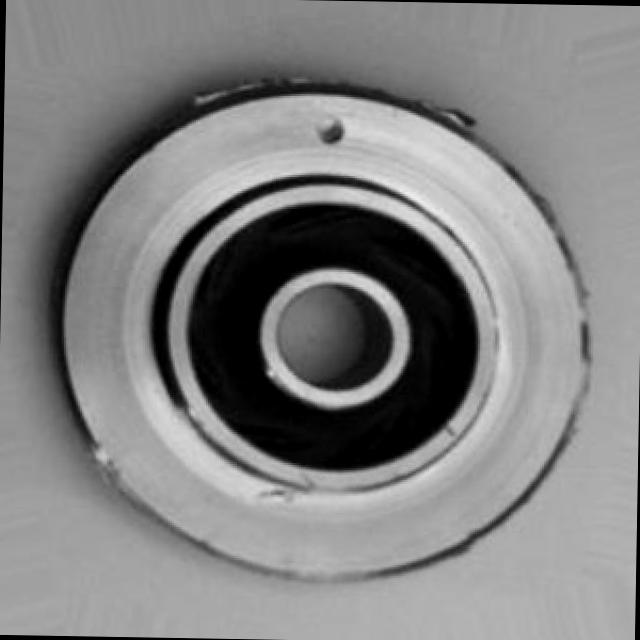Defect: (316, 112, 349, 149)
